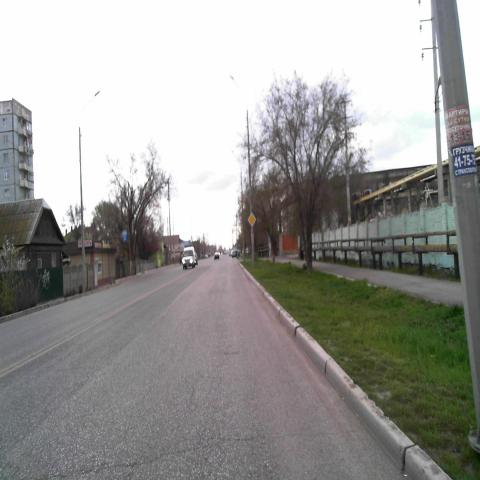2_1: (248, 211, 256, 227)
